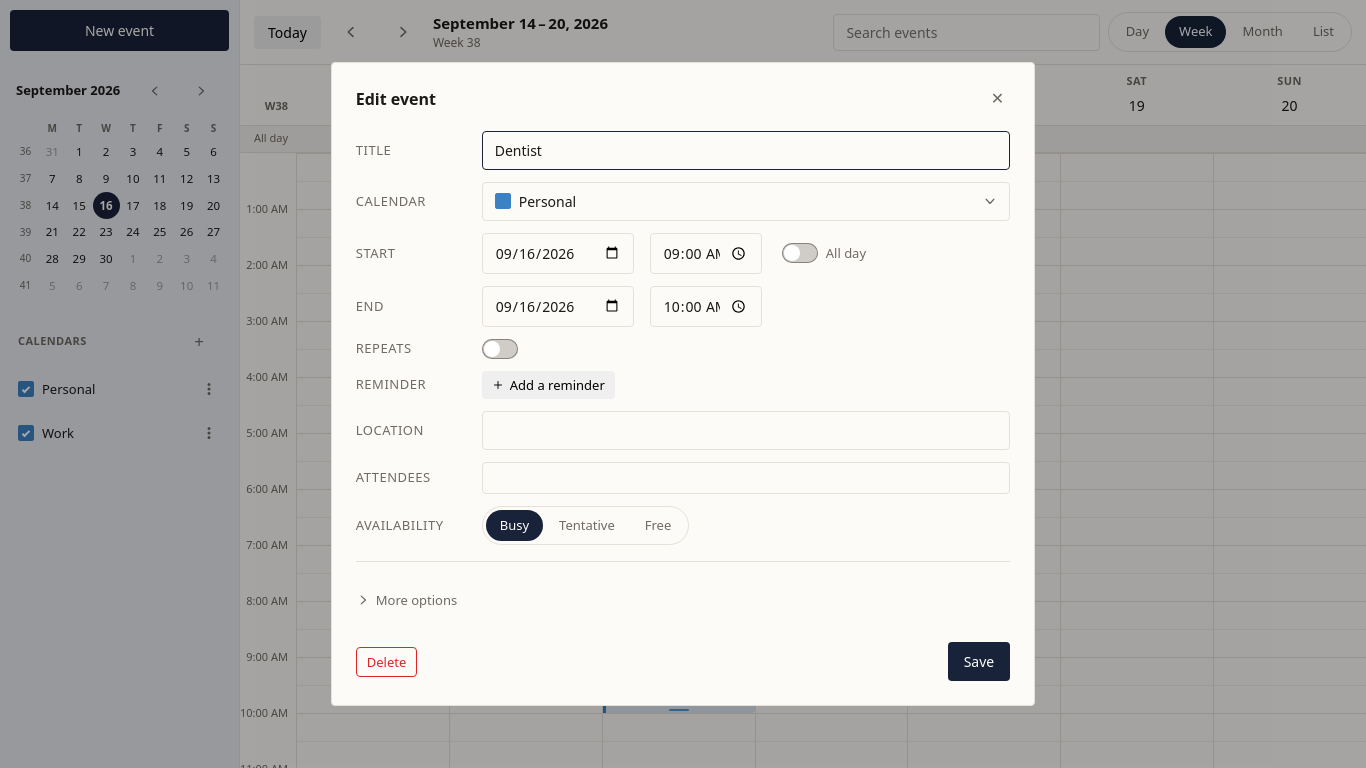
Test case: CalendarLayout — deleting and leaving the editor › closes the confirm on a refused delete and says so
Click the button "Delete". click: (386, 662)
box: left=356, top=647, right=417, bottom=677
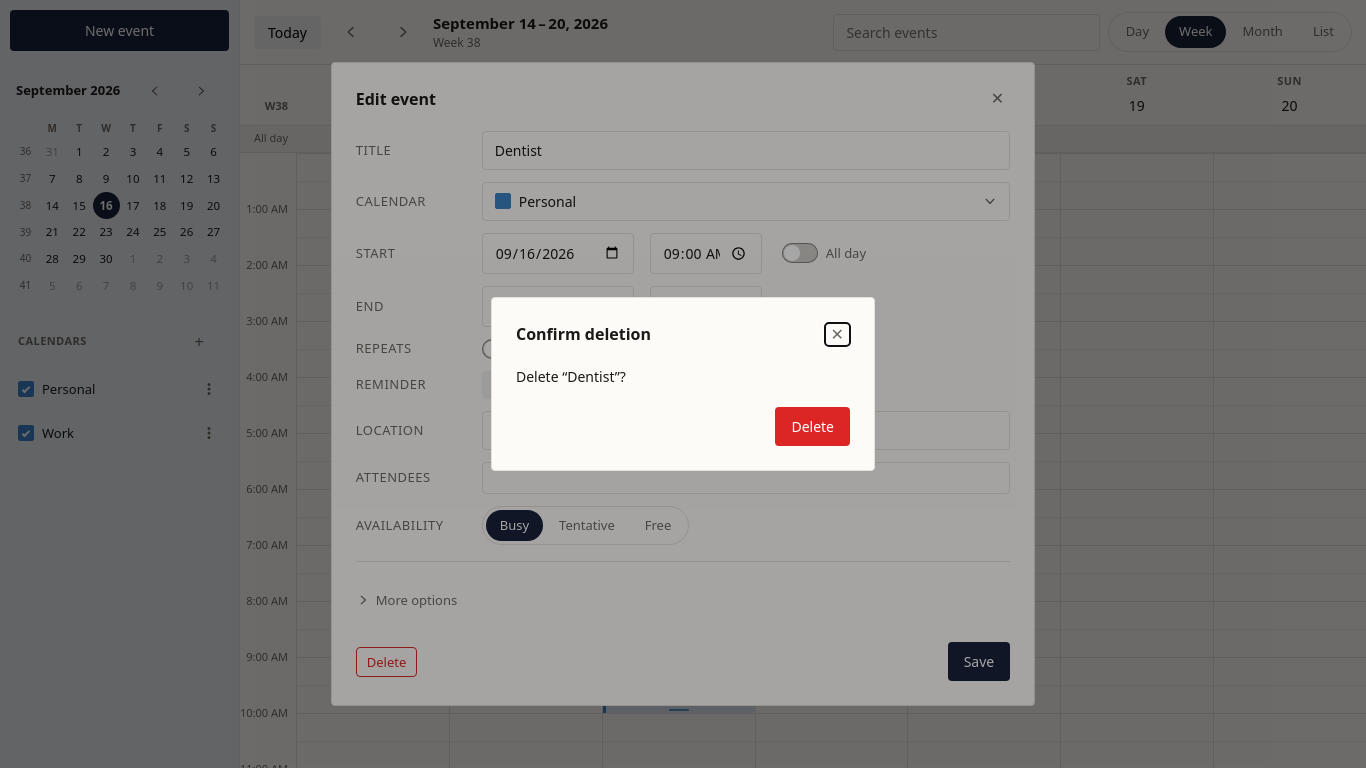
Click the button "Delete". click: (813, 426)
box: left=775, top=407, right=850, bottom=446
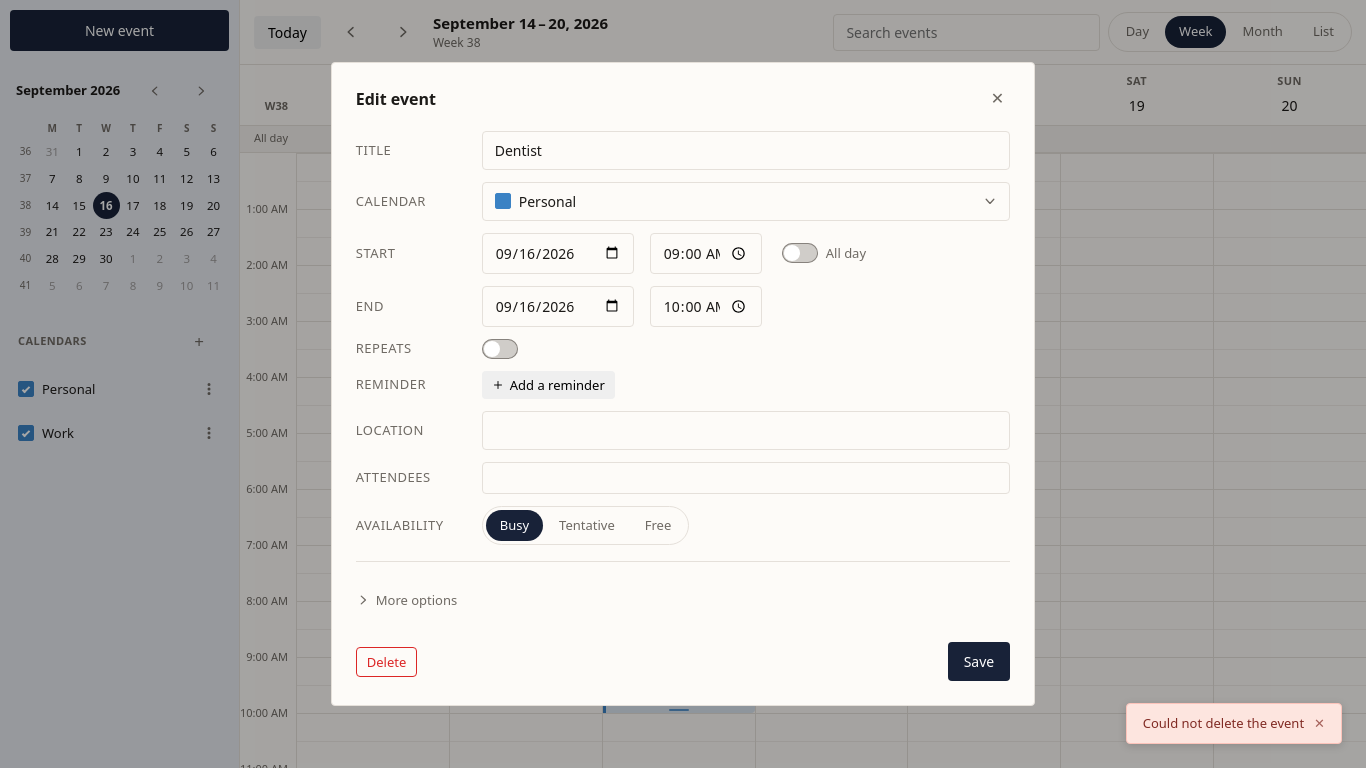
Now the dialog "Confirm deletion ✕ Delete “Dentist”? Delete" is gone
Now the text "Could not delete the event" is shown, box left=1143, top=714, right=1304, bottom=733
